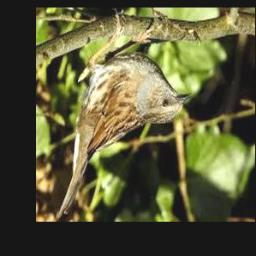Sparrow: (57, 11, 192, 217)
